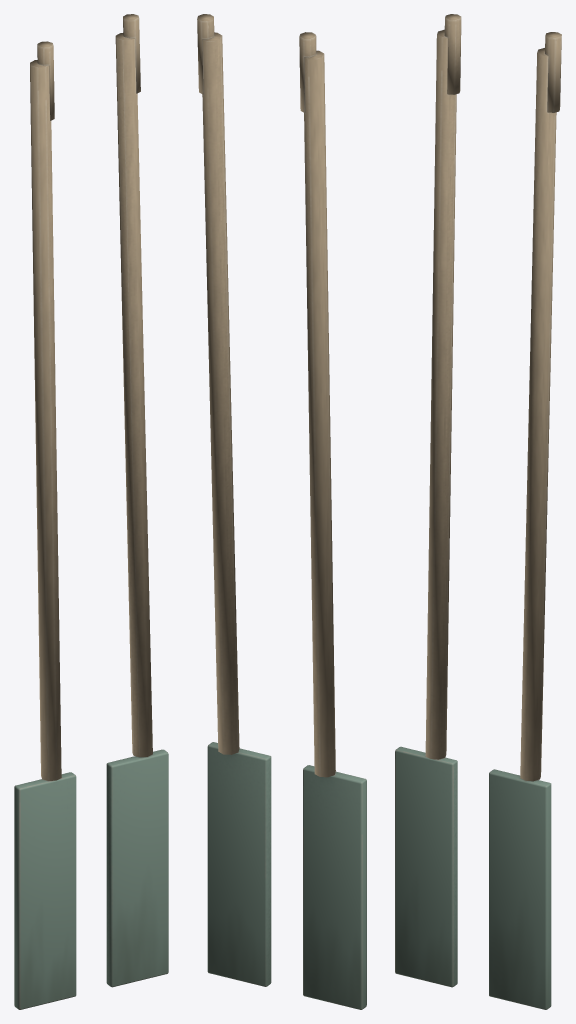
Rendered from lake_oars.glb.
The picture shows the model from 3 angles, left to right: view 1: azimuth 30°, elevation 25°; view 2: azimuth 150°, elevation 25°; view 3: azimuth 330°, elevation 25°; orthographic projection. The views are drawn at different scales.
Parts seen in each view (by area): view 1: lake_oars; view 2: lake_oars; view 3: lake_oars.
Part boxes in pixels (x1,y1,x2,y2): lake_oars: [14, 14, 168, 1009]; lake_oars: [197, 14, 366, 1009]; lake_oars: [395, 14, 561, 1009].
Bounding box in the file's own units: 0.39 × 2.34 × 0.1282.
Materials: 1 (1 with a texture image).
